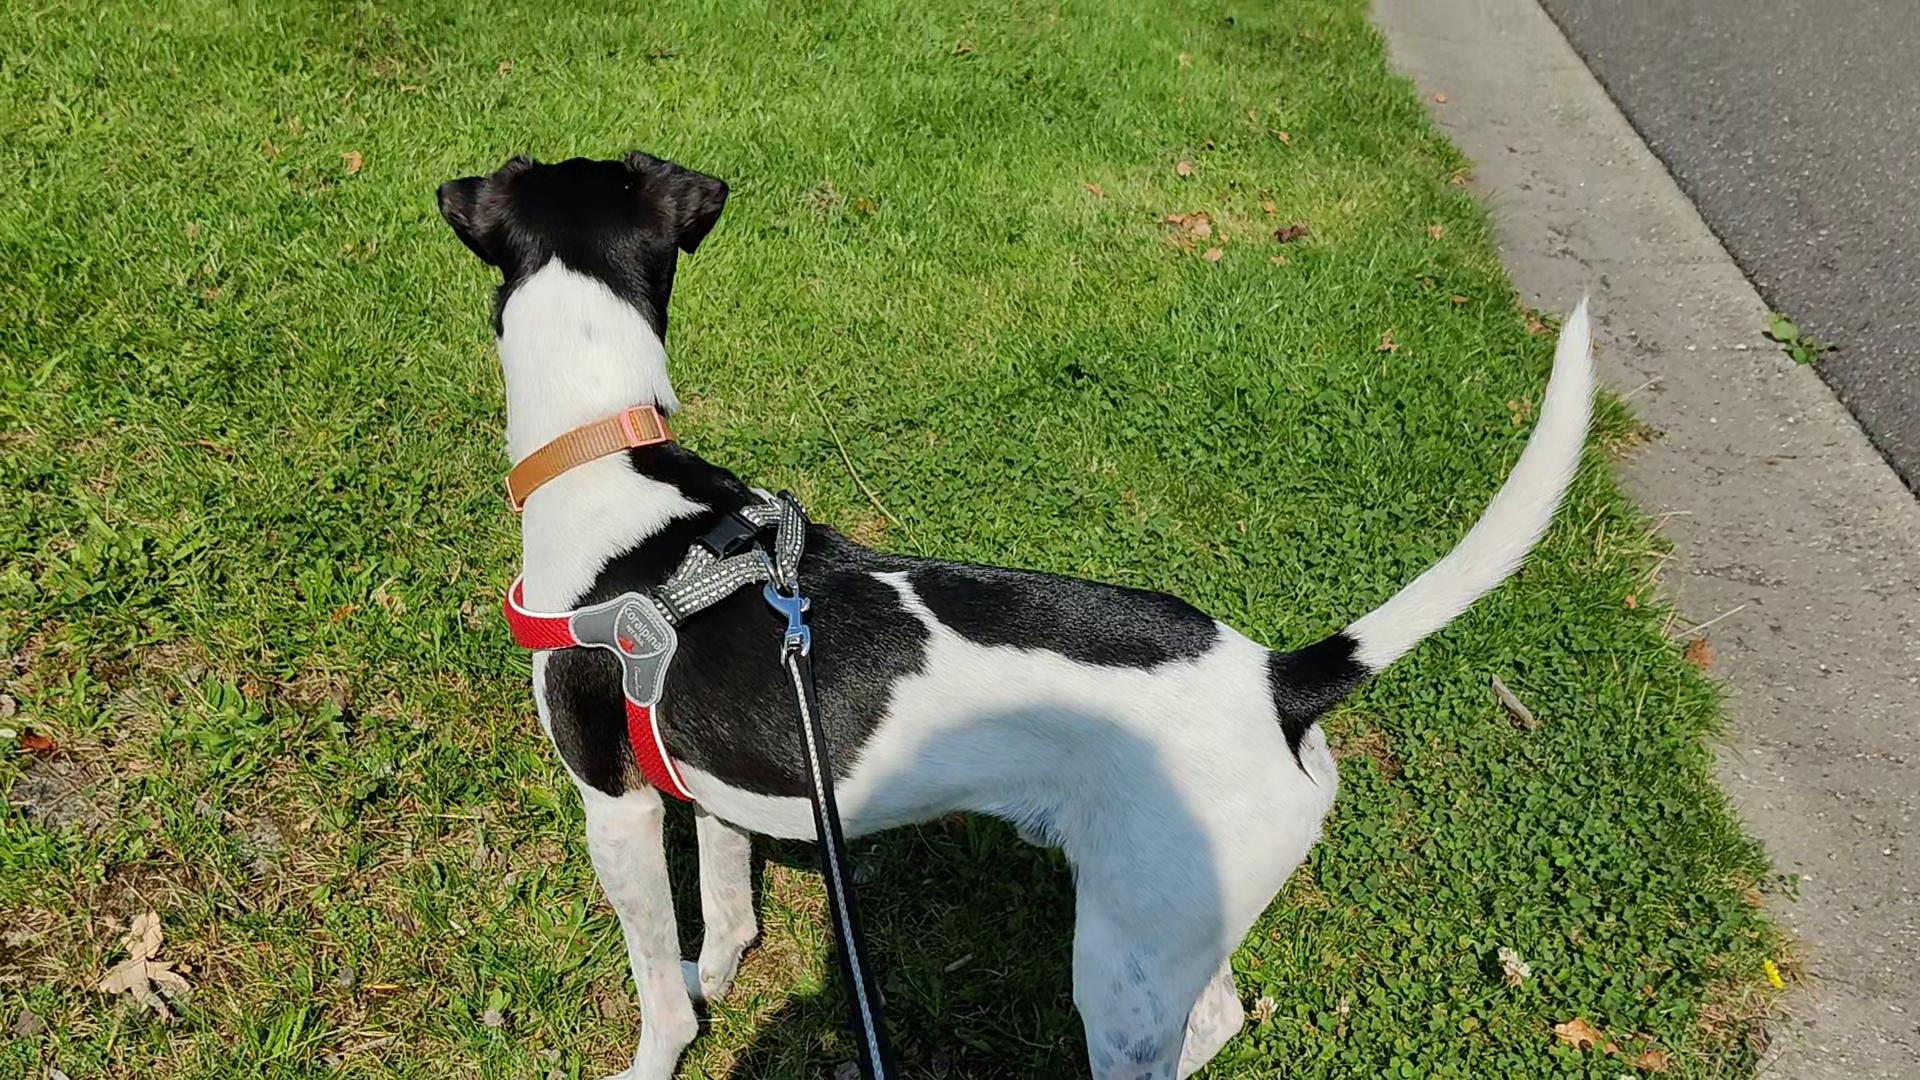Dog: (410, 123, 1623, 1079)
